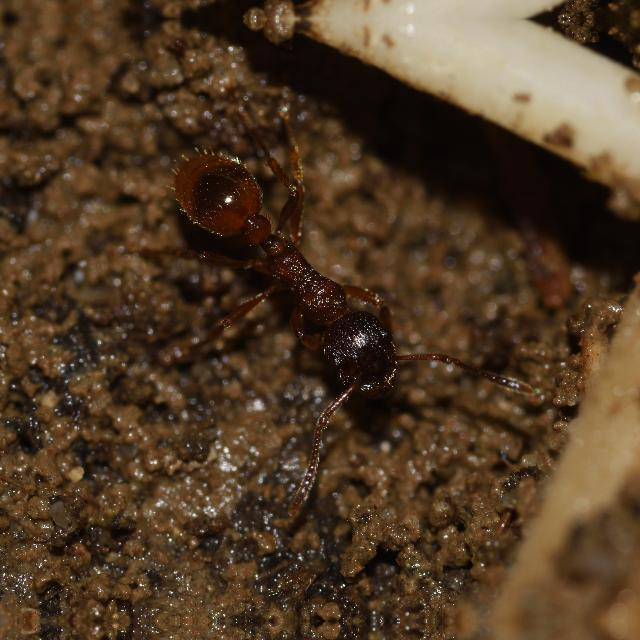Myrmica: (112, 88, 480, 440)
